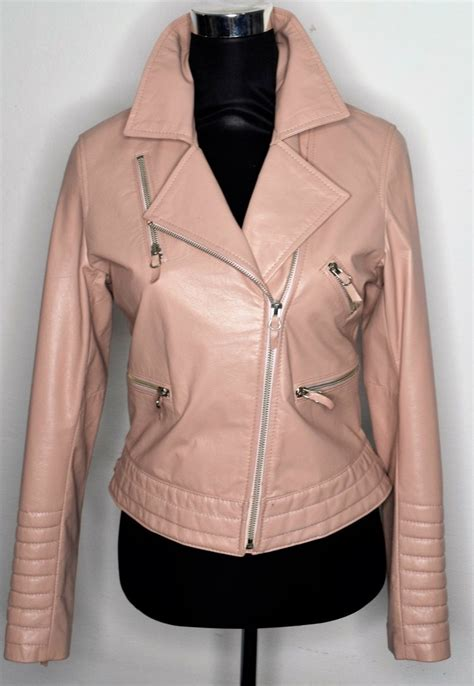cuero: (6, 10, 451, 662)
